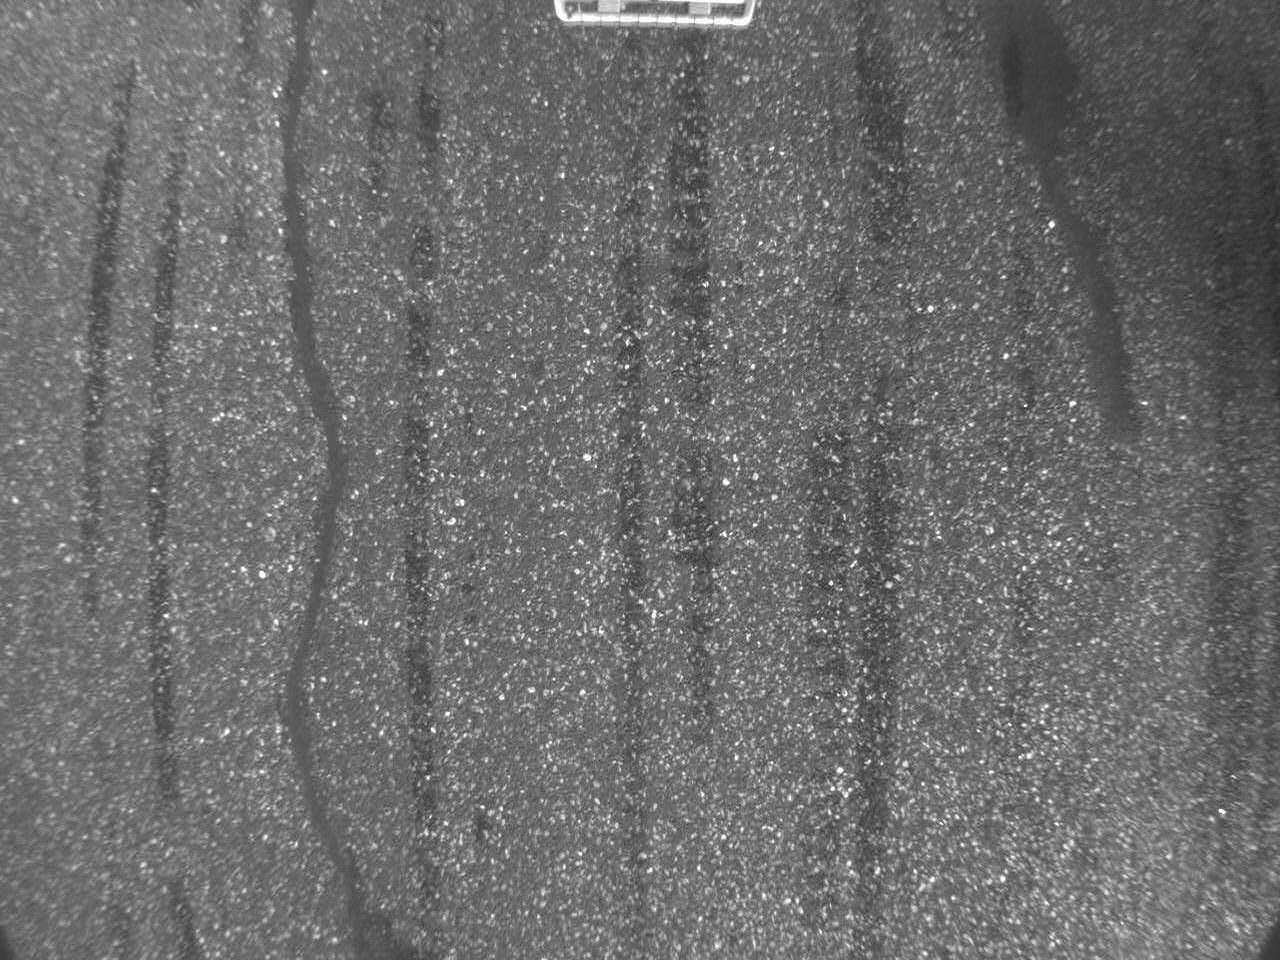sealed: (266, 6, 372, 960), (986, 2, 1146, 434)
